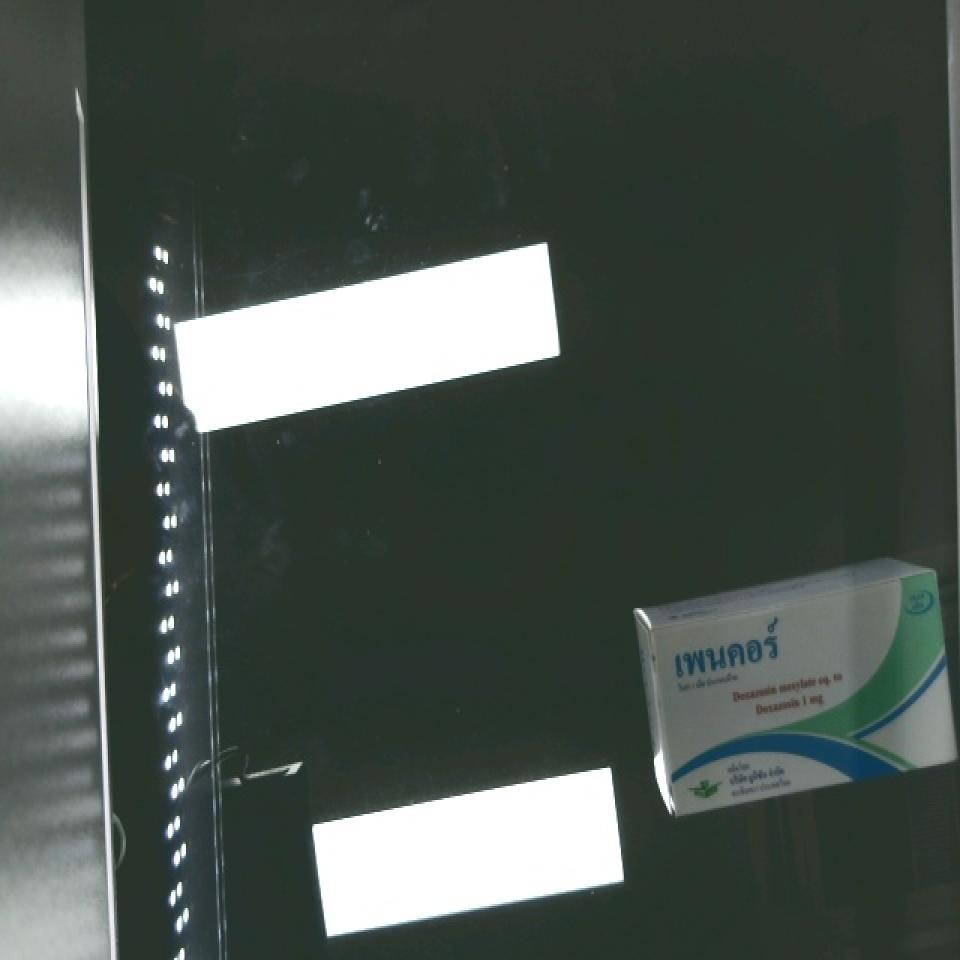medicine_box: (631, 563, 960, 812)
medicine_label_obb: (650, 599, 807, 692)
